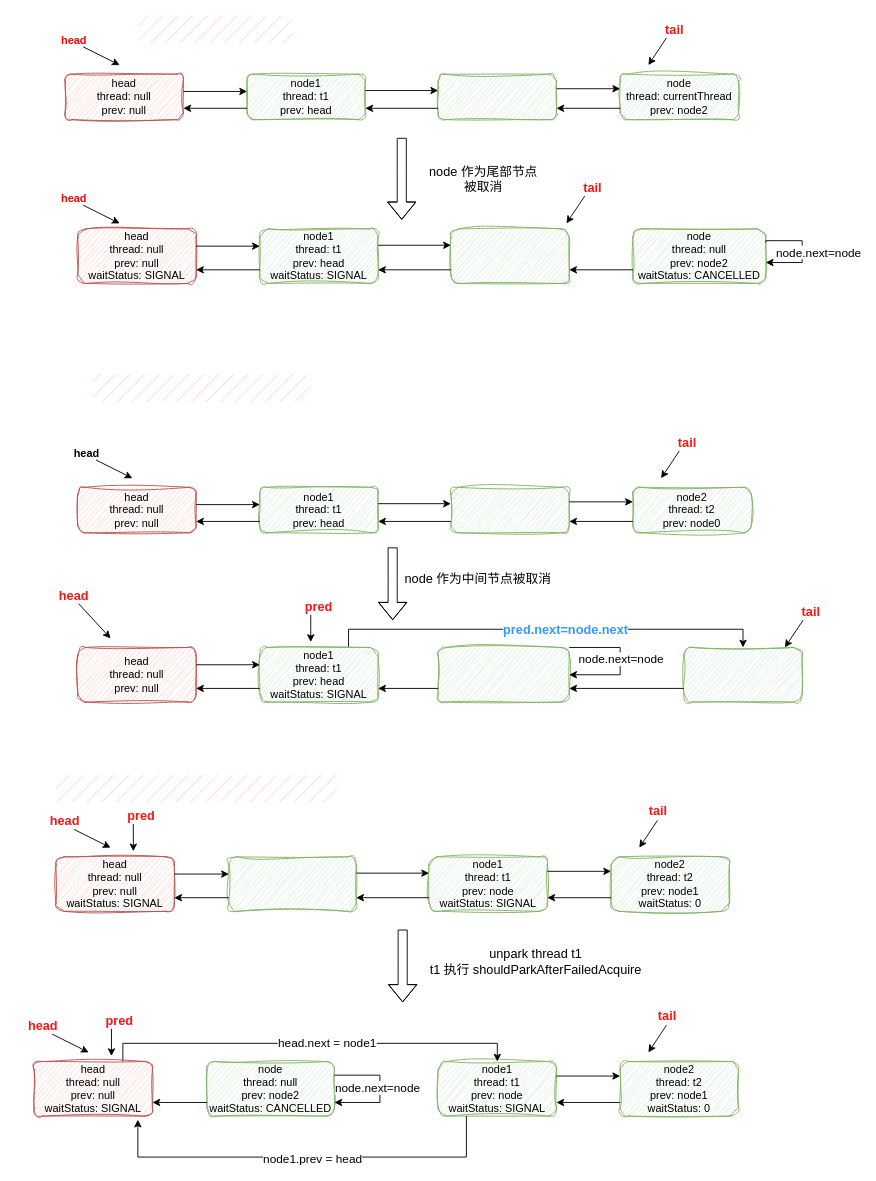
Image size: 876x1181. Some labels were removed from this diagram. Each missing label, with the centre of its shape:
"node thread: currentThread prev: node1" belongs at (509,509).
"node thread: null prev: head waitStatus: CANCELLED" belongs at (292,883).
"node thread: null prev: node1 waitStatus: CANCELLED" belongs at (503,674).
"node2 thread: t2 prev: node0 waitStatus: 0" belongs at (742,674).
"node2 thread: t2 prev: node1" belongs at (496,96).
"node2 thread: t2 prev: node1 waitStatus: SIGNAL" belongs at (509,255).
"情况一：tail 节点被取消" belongs at (214,29).
"情况三：node 作为第一个head的后继节点被取消" belongs at (197,788).
"情况二：node 作为中间节点被取消" belongs at (201,387).
